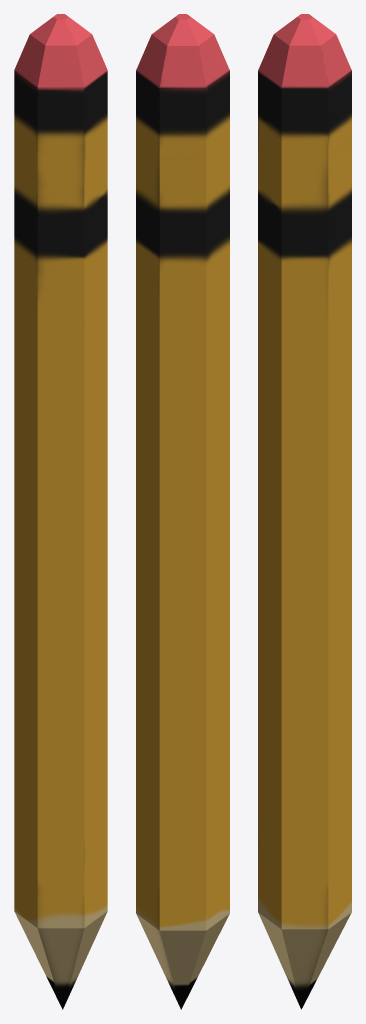
Rendered from Pencil.fbx.
The picture shows the model from 3 angles, left to right: view 1: azimuth 30°, elevation 25°; view 2: azimuth 210°, elevation 25°; view 3: azimuth 270°, elevation 25°; orthographic projection.
Parts seen in each view (by area): view 1: Pencil; view 2: Pencil; view 3: Pencil.
Part boxes in pixels (box(x1,y1,x2,y2)): Pencil: box(14, 14, 107, 1009); Pencil: box(136, 14, 229, 1009); Pencil: box(258, 14, 351, 1009).
Size of the model in its own units: 2.8 by 37.81 by 3.24.
